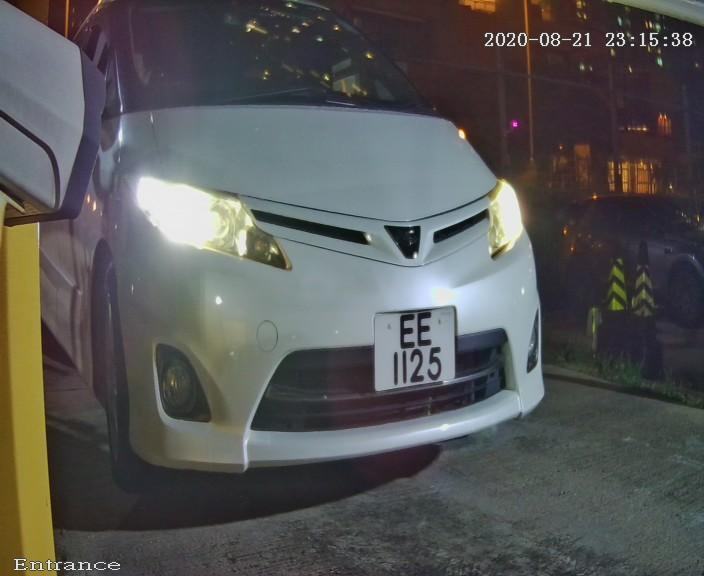Car: (32, 11, 588, 499)
License Plate: (368, 299, 466, 402)
